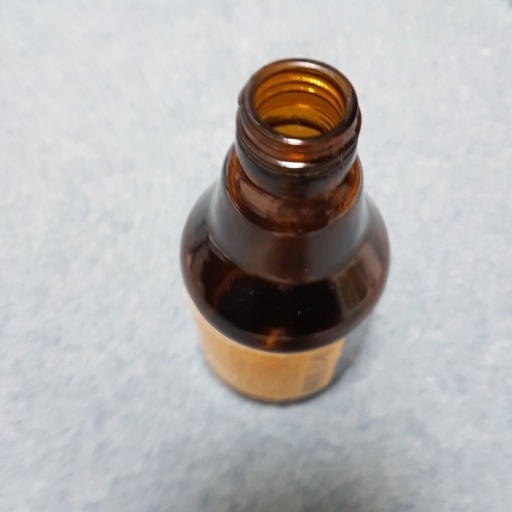Glass_3: (176, 58, 394, 407)
